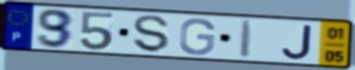5: (78, 11, 116, 52)
9: (35, 8, 77, 50)
G: (177, 16, 217, 57)
I: (238, 19, 256, 60)
J: (280, 23, 315, 61)
S: (132, 14, 172, 54)
